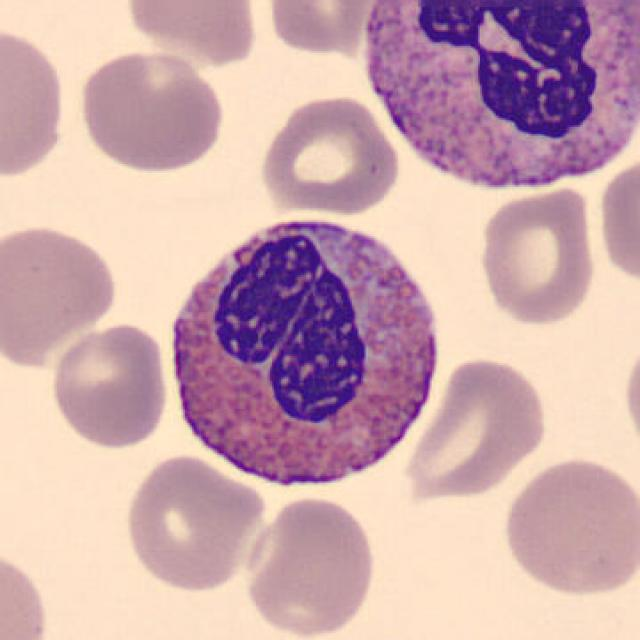Eosinophil: (155, 199, 453, 508)
Neutrophil: (355, 0, 640, 204)
RBC: (398, 353, 551, 504), (119, 452, 269, 594), (239, 493, 380, 640), (498, 453, 638, 600), (74, 48, 228, 176), (0, 218, 123, 368), (256, 92, 402, 218), (475, 185, 599, 328), (46, 321, 172, 451), (0, 21, 69, 185), (121, 0, 263, 69), (261, 0, 380, 56), (594, 152, 640, 288), (0, 543, 53, 640), (618, 326, 640, 462)
